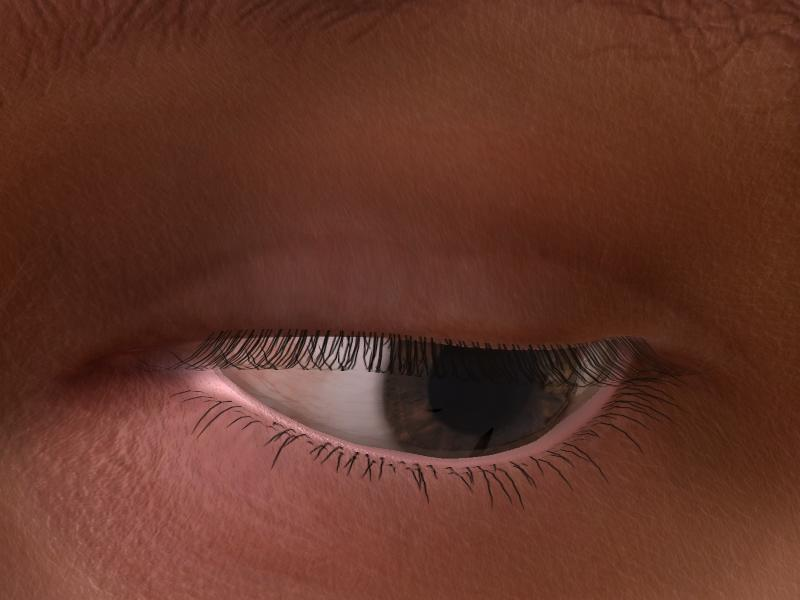eye: (387, 338, 578, 456)
